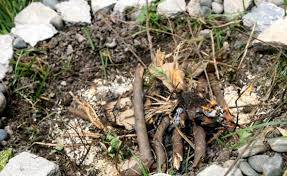wood_together: (63, 22, 257, 172)
